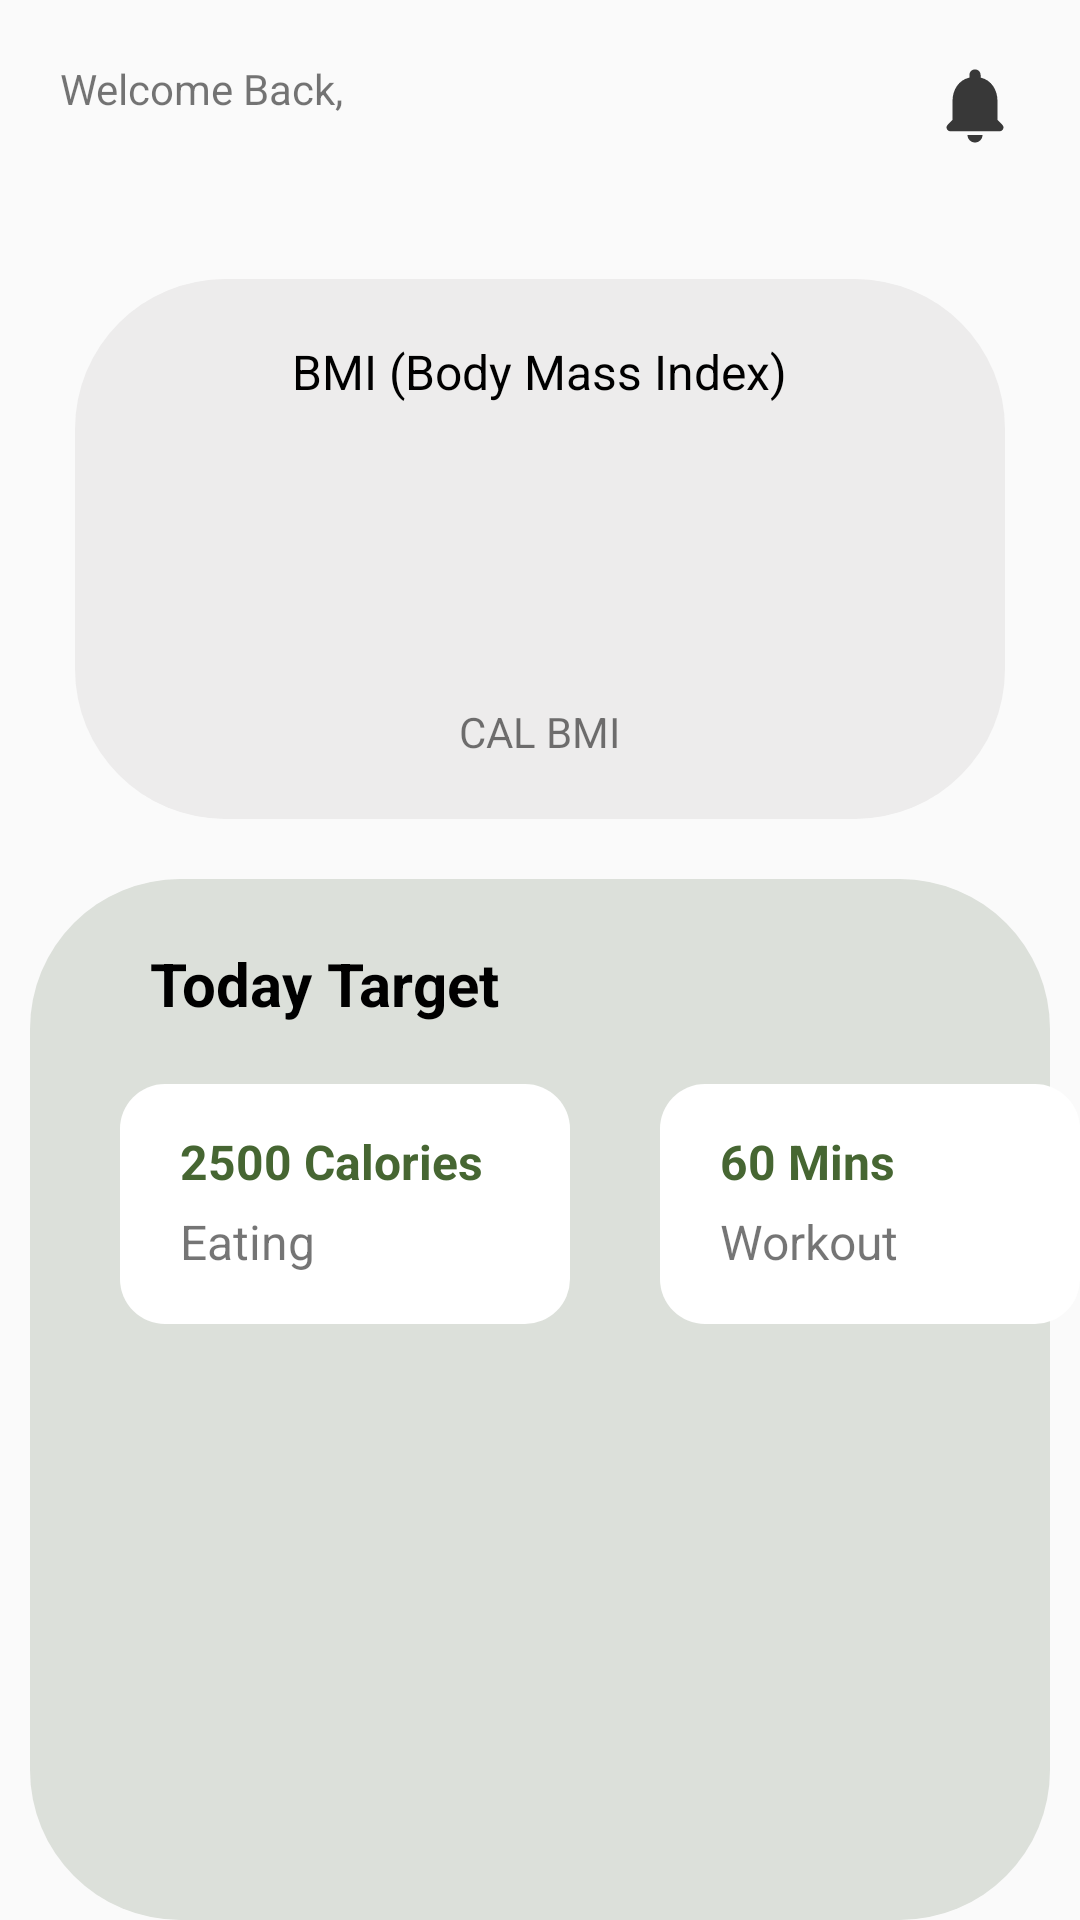

Point at icon controls on the screen. Image size 1080*1920, points as (x=x, y=y).
noti: (x=975, y=106)
